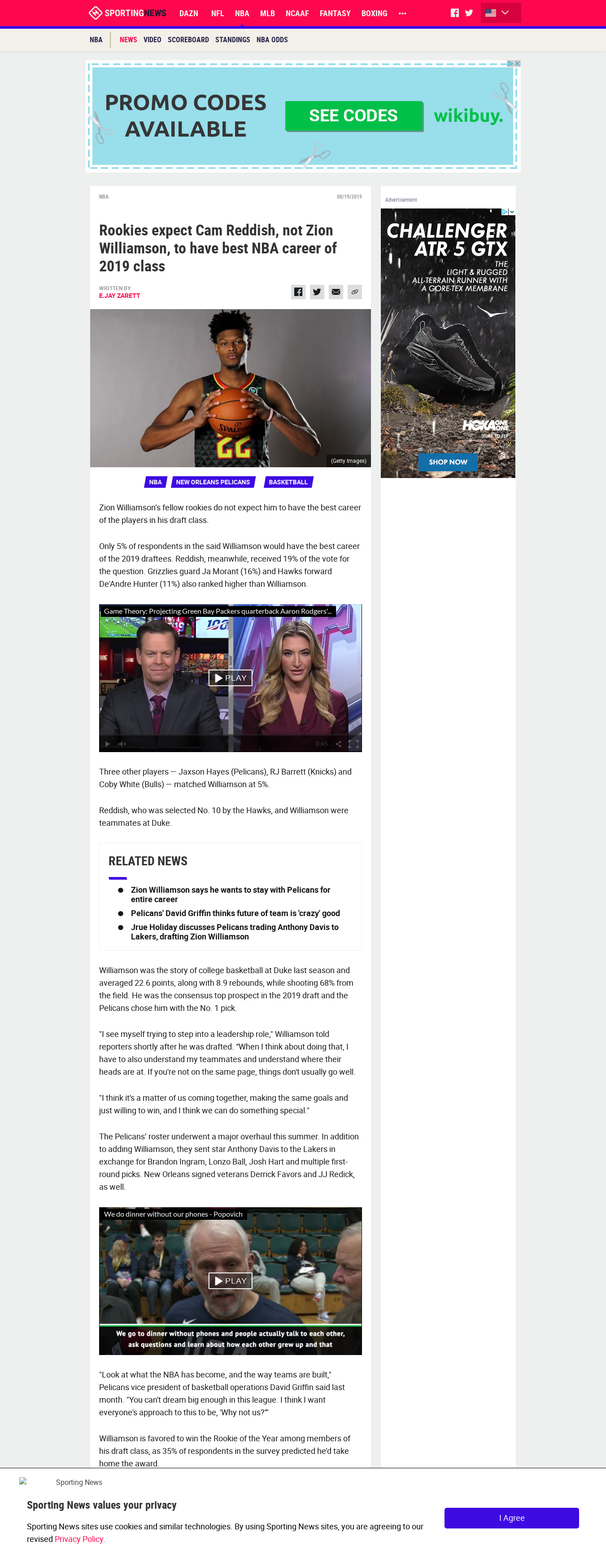fake_button: (274, 92, 433, 139), (434, 1495, 586, 1543), (200, 658, 261, 695)
